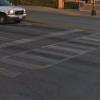Crosswalk: (8, 34, 97, 81)
